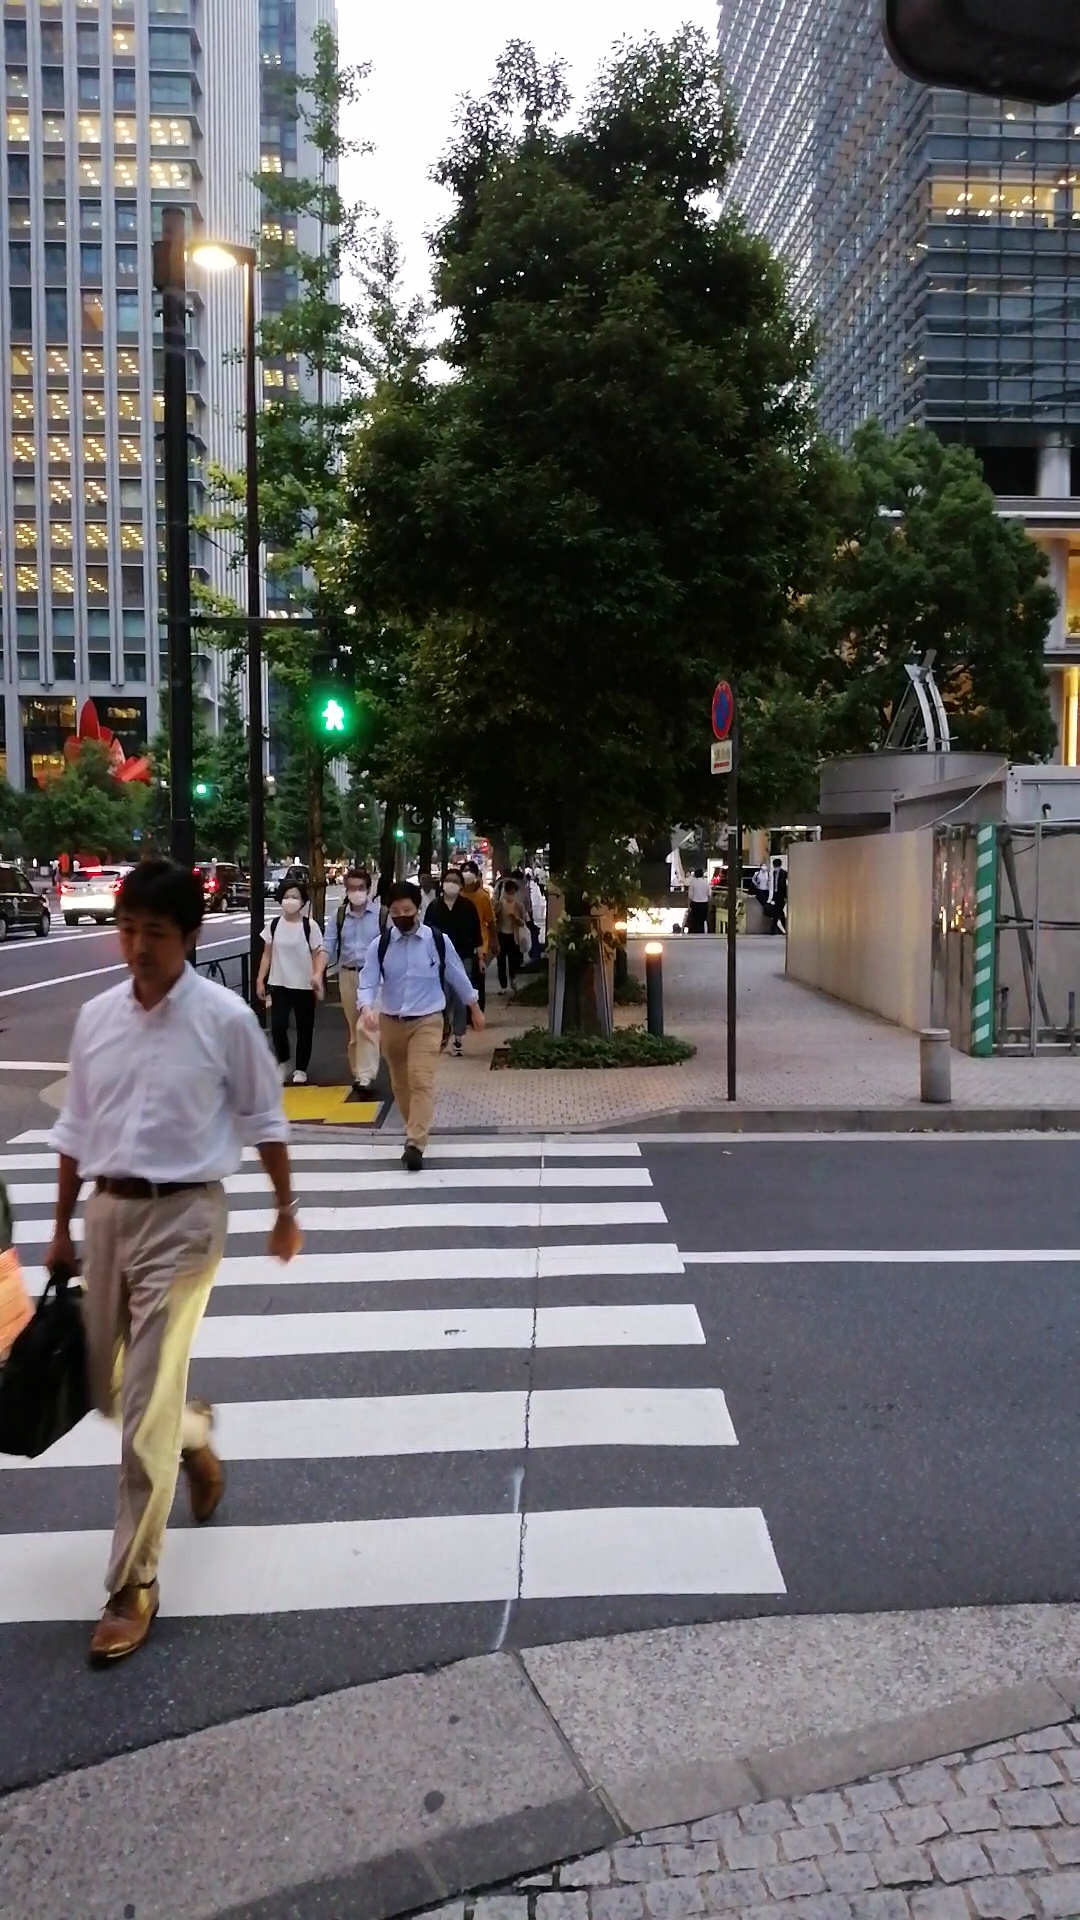green: (309, 651, 353, 742)
